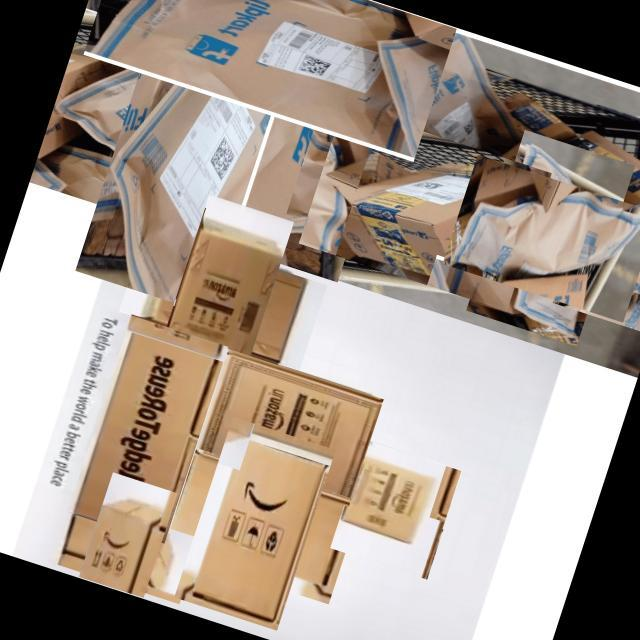cardboxes: (50, 0, 370, 304), (82, 0, 455, 161), (452, 142, 640, 335)
